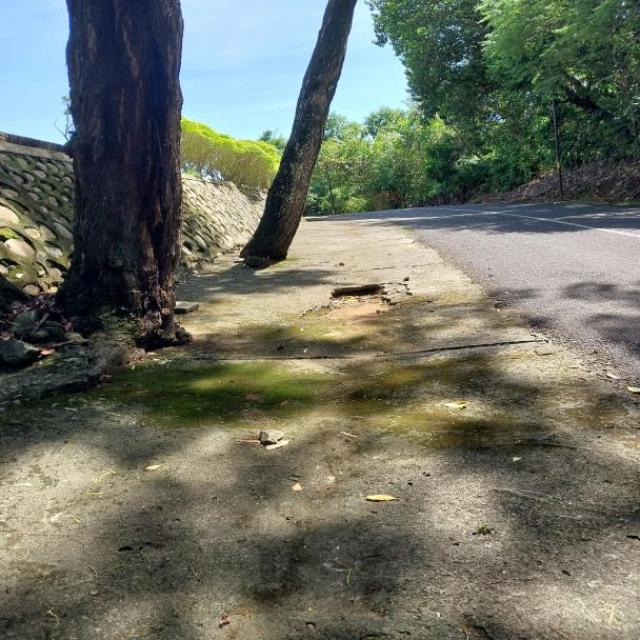tree ahead at: (50, 0, 190, 332)
